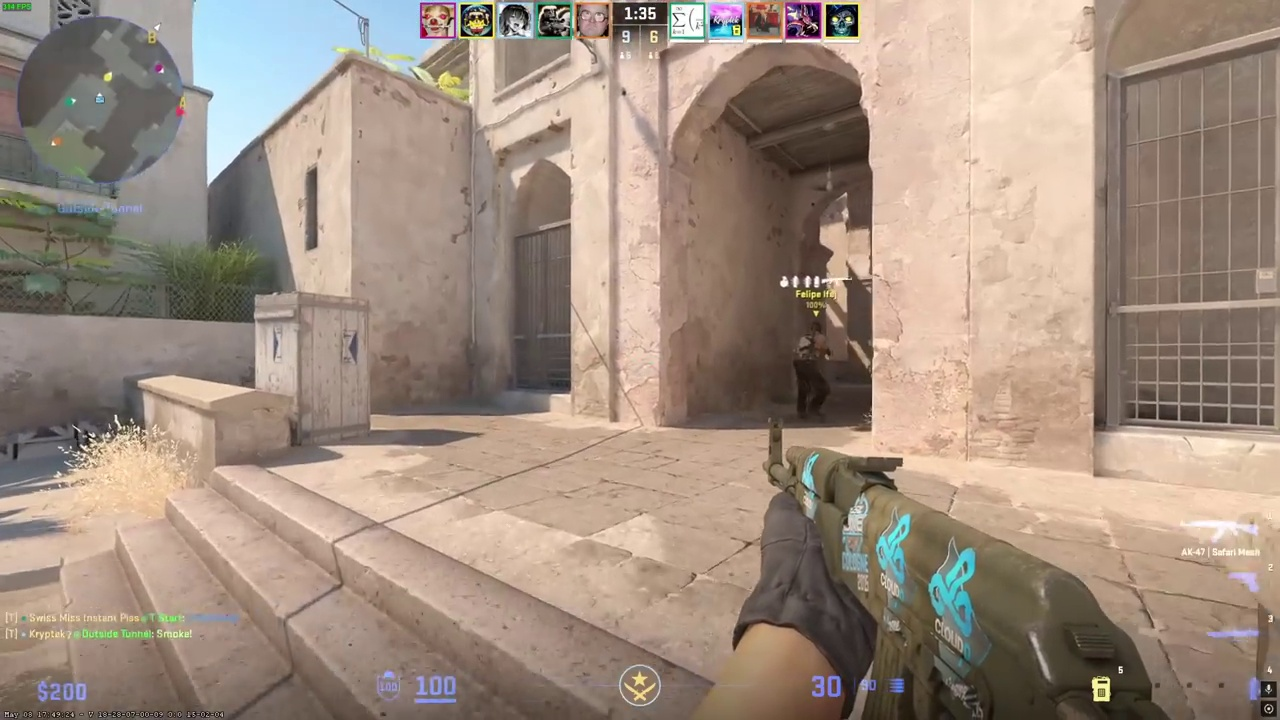Terrorist: (791, 321, 831, 420)
